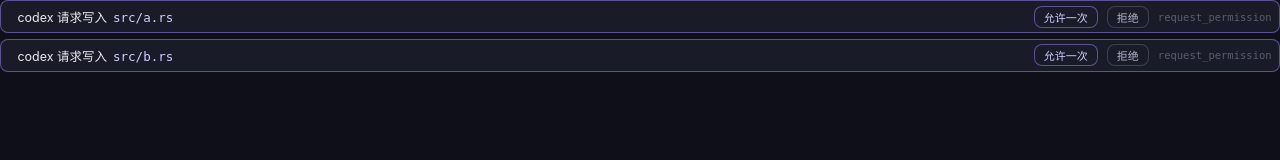
待裁决队列 › 处理一条不影响另一条
What coordinates should you click on to do the following:
click the button "拒绝" in the row of "src/a.rs"
I would click on:
 (1128, 17)
Its box is [1107, 6, 1149, 28].
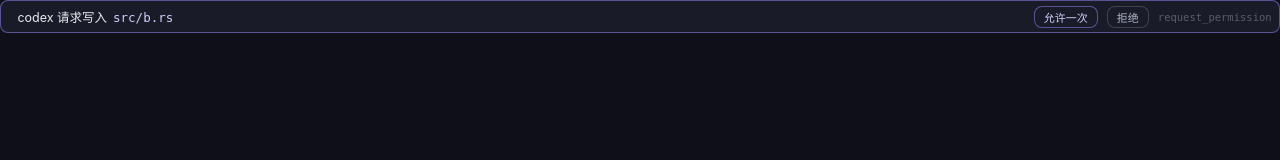
Expected: the text "src/b.rs" is shown, [113, 10, 173, 25]
Expected: the number of buttons "拒绝" is 1, [1107, 6, 1149, 28]
